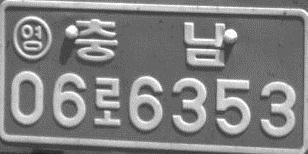0: (9, 69, 45, 126)
3: (259, 80, 296, 137), (171, 77, 207, 134)
5: (215, 77, 251, 137)
6: (127, 74, 163, 132), (52, 71, 87, 128)
로: (93, 76, 122, 126)
영: (12, 15, 52, 61)
충남_D: (74, 17, 229, 67)
